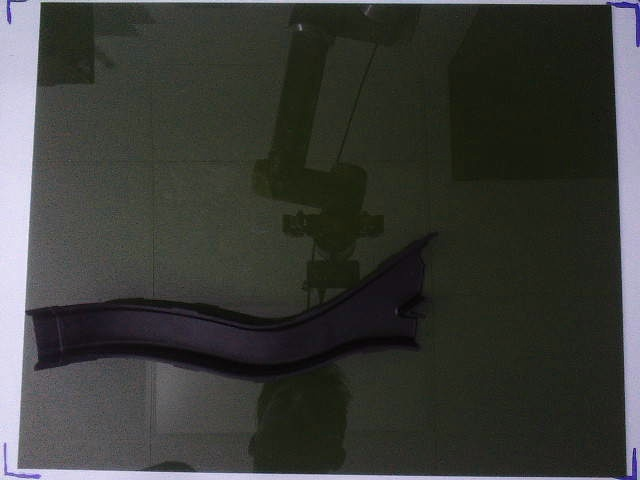887_B-Under: (25, 230, 440, 379)
